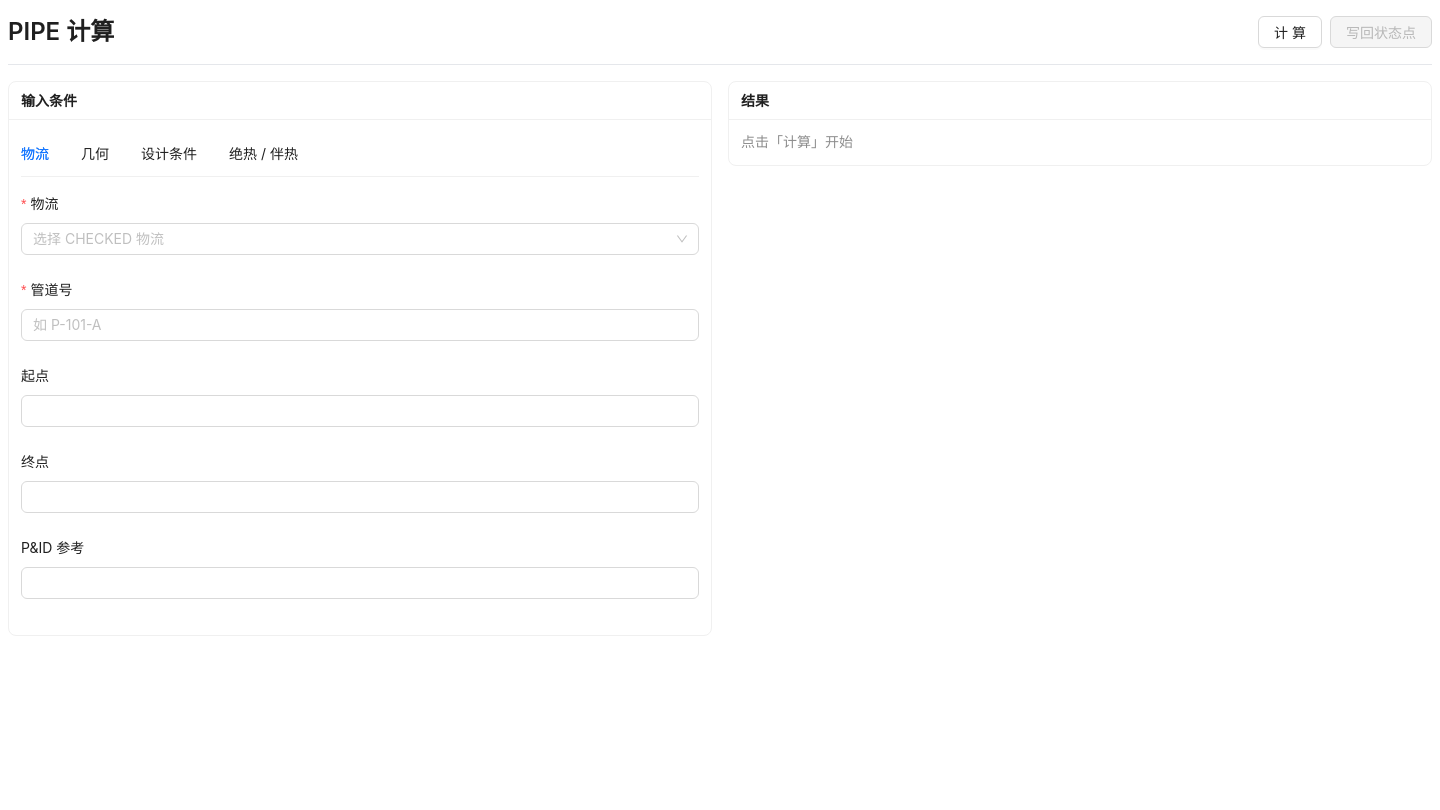
Test: PipeComputePage — 绝热 Tab › 切到「绝热」：绝热代号 + 厚度 + 伴热 checkbox
Step 1. Click the tab with test id "pipe-input-tab-insulation" → x=263, y=154, box 229,143 -> 298,165
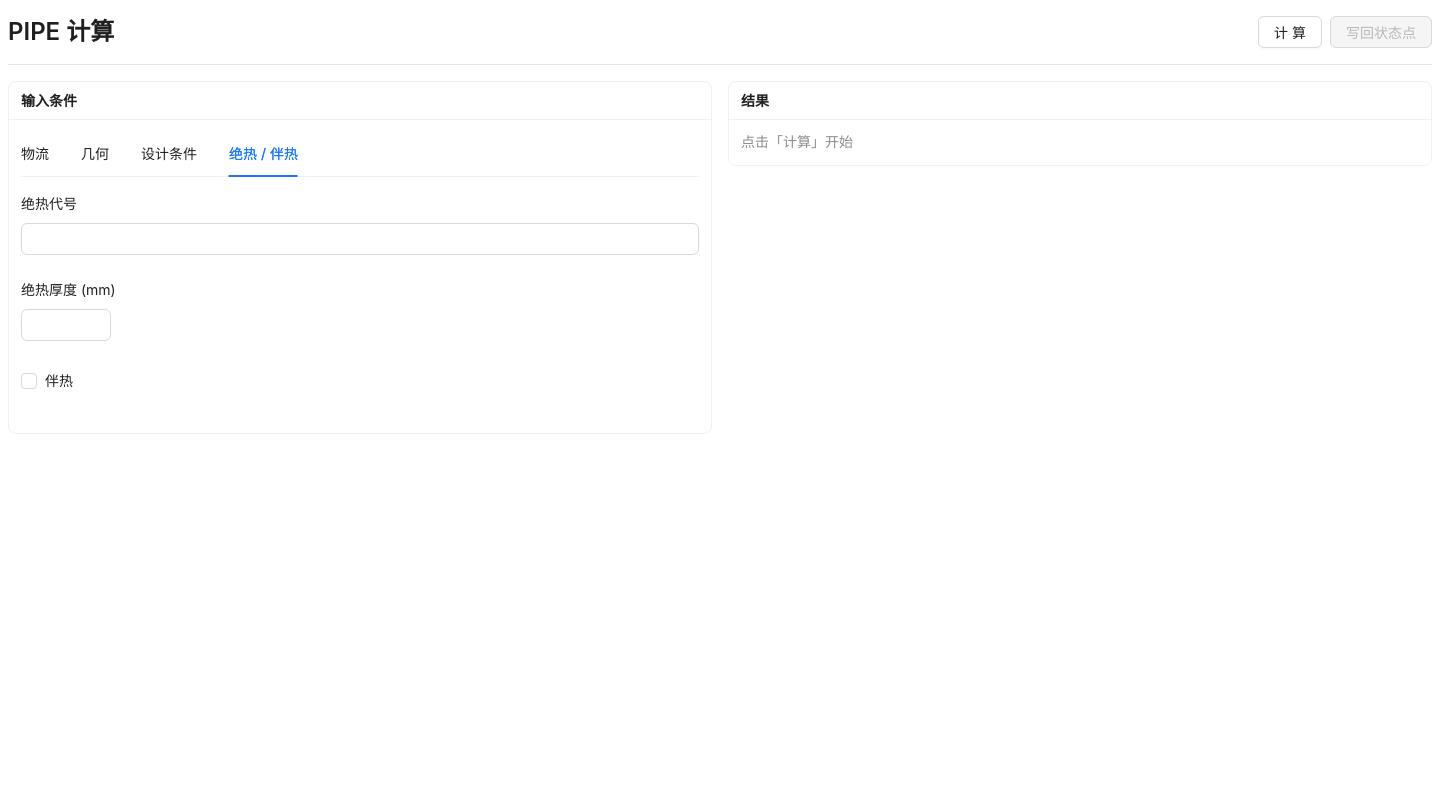
Result: the field with test id "pipe-insulation-code" is shown at 21,223 -> 699,255
Result: the number field with test id "pipe-insulation-thickness" is shown at 22,310 -> 110,340
Result: the checkbox with test id "pipe-heat-trace" is shown at 21,370 -> 81,392
